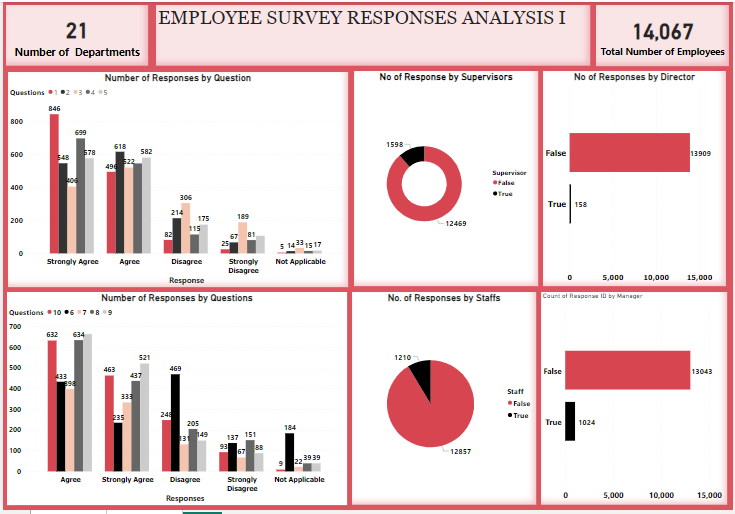

Layout of this report page (visuals, bound fields, positions):
{"tool":"powerbi","page":{"name":"Page 1","canvas":[1840,1280],"ordinal":0},"visuals":[{"type":"card","fields":{"Values":["Count(HR Survey Reponses.Department)"]},"box":[8.3,8.3,358.3,152.8],"z":0},{"type":"clusteredColumnChart","title":"Number of Responses by  Question","fields":{"Category":["HR Survey Reponses.Response Text"],"Y":["CountNonNull(HR Survey Reponses.Response ID)"],"Series":["HR Survey Reponses.Question (groups)"]},"box":[12.6,176.4,856.7,541.7],"z":1000},{"type":"textbox","box":[386.1,8.3,1094.4,152.8],"z":2000},{"type":"clusteredColumnChart","title":"Number of Responses by  Questions","fields":{"Category":["HR Survey Reponses.Response Text"],"Y":["CountNonNull(HR Survey Reponses.Response ID)"],"Series":["HR Survey Reponses.Question (groups)"]},"box":[10.1,730.7,856.7,536.7],"z":3000},{"type":"card","fields":{"Values":["CountNonNull(HR Survey Reponses.Response ID)"]},"box":[1494.2,7.6,335.1,153.7],"z":4000},{"type":"clusteredBarChart","title":"No of Responses by Director","fields":{"Category":["HR Survey Reponses.Director"],"Y":["CountNonNull(HR Survey Reponses.Response ID)"]},"box":[1361.1,175,461.1,541.7],"z":5000},{"type":"clusteredBarChart","fields":{"Category":["HR Survey Reponses.Manager"],"Y":["CountNonNull(HR Survey Reponses.Response ID)"]},"box":[1355.6,730.6,469.4,536.1],"z":6000},{"type":"donutChart","title":"No of Response by Supervisors","fields":{"Category":["HR Survey Reponses.Supervisor"],"Y":["CountNonNull(HR Survey Reponses.Response ID)"]},"box":[883.3,175,463.9,541.7],"z":7000},{"type":"pieChart","title":"No. of  Responses by Staffs","fields":{"Category":["HR Survey Reponses.Staff"],"Y":["CountNonNull(HR Survey Reponses.Response ID)"]},"box":[880.6,730.6,463.9,536.1],"z":8000}]}

Visuals, with their boxes in screenshot pixels (x1, y1, x2, y2), scaled from the page's 1840x1280 canvas onto the 735x514 screenshot:
card - Count(HR Survey Reponses.Department): 3/3/146/65
"Number of Responses by  Question" clusteredColumnChart: 5/71/347/288
textbox: 154/3/591/65
"Number of Responses by  Questions" clusteredColumnChart: 4/293/346/509
card - CountNonNull(HR Survey Reponses.Response ID): 597/3/731/65
"No of Responses by Director" clusteredBarChart: 544/70/728/288
clusteredBarChart - HR Survey Reponses.Manager x CountNonNull(HR Survey Reponses.Response ID): 542/293/729/509
"No of Response by Supervisors" donutChart: 353/70/538/288
"No. of  Responses by Staffs" pieChart: 352/293/537/509
